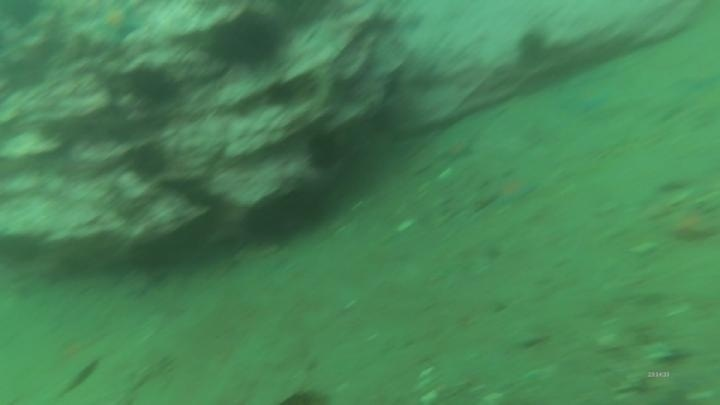echinus: (204, 9, 287, 75), (124, 63, 182, 109), (125, 140, 171, 184), (303, 130, 345, 174), (514, 27, 551, 69)
starfish: (87, 1, 144, 49), (663, 201, 720, 246), (488, 170, 541, 211), (559, 80, 616, 117), (434, 133, 479, 166)
